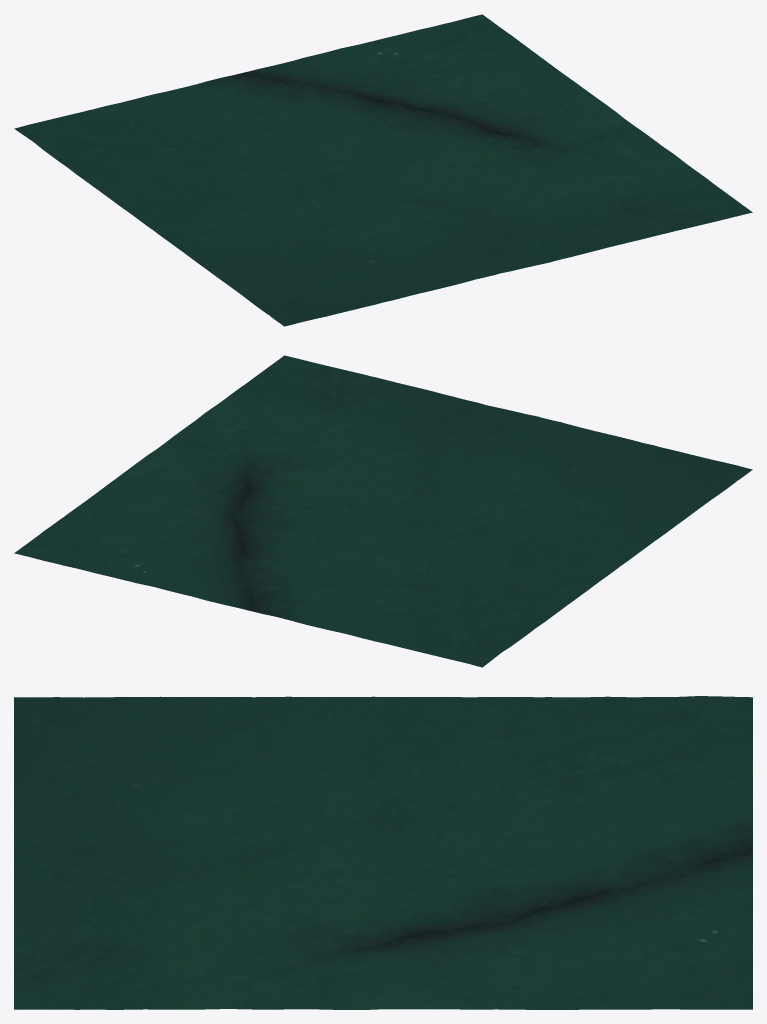
3 views of the same model, one above another, from view 1: azimuth 30°, elevation 25°; view 2: azimuth 150°, elevation 25°; view 3: azimuth 270°, elevation 25° (orthographic). The views are drawn at different scales.
Bounding box in the file's own units: 209 × 0.6749 × 209.
Materials: 3 (3 with a texture image).
